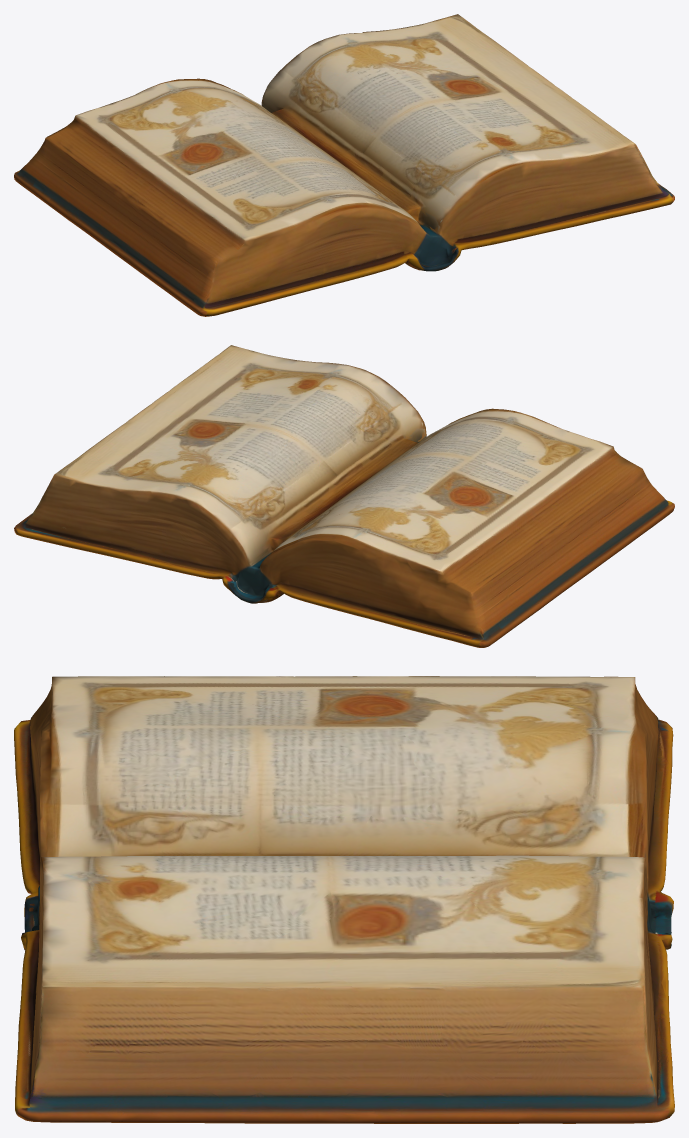
File: book1.glb
3 views of the same model, one above another, from view 1: azimuth 30°, elevation 25°; view 2: azimuth 150°, elevation 25°; view 3: azimuth 270°, elevation 25° (orthographic). The views are drawn at different scales.
Bounding box in the file's own units: 2 × 0.3457 × 1.42.
Materials: 1 (1 with a texture image).
